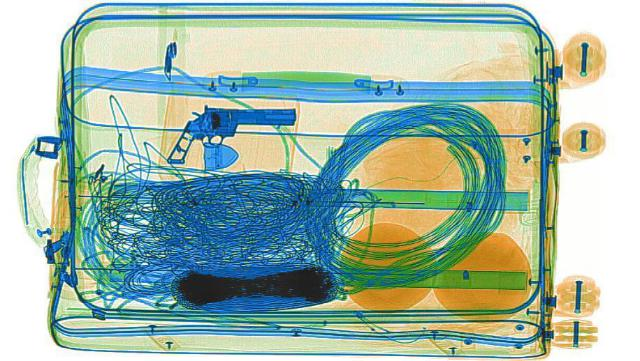Gun: (165, 102, 299, 165)
